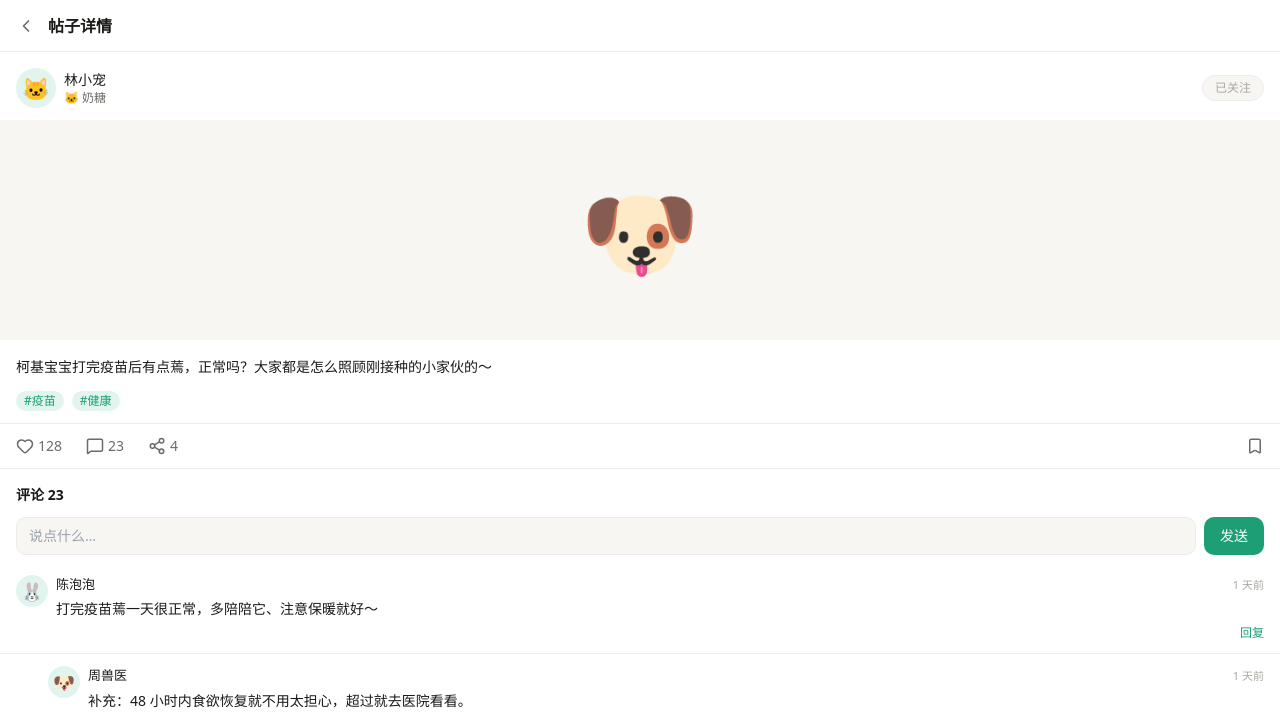
Test: 评论体系（P0-1） › 发送非空评论 → 置顶 + 输入清空 + toast + post.comments +1
In the field with placeholder "说点什么…": [606, 536] box [16,517,1196,555], type "沙发！"
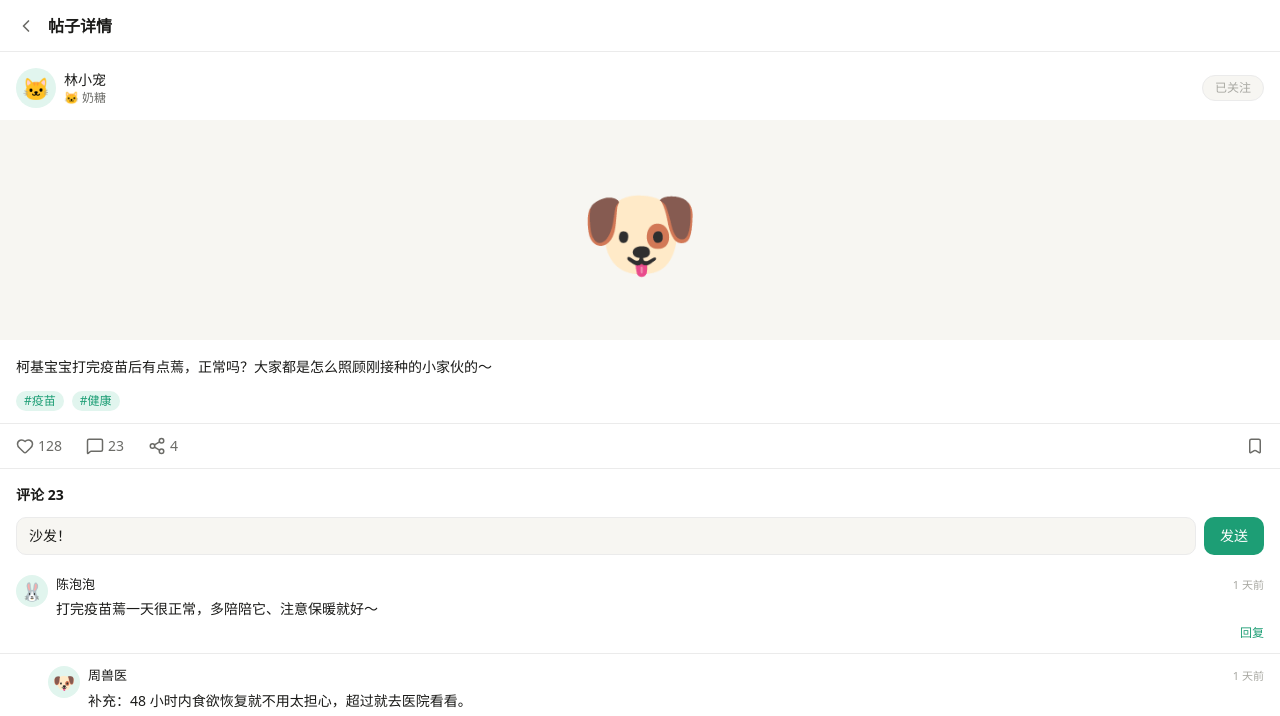
Click the button "发送": [1234, 536] box [1204,517,1264,555]
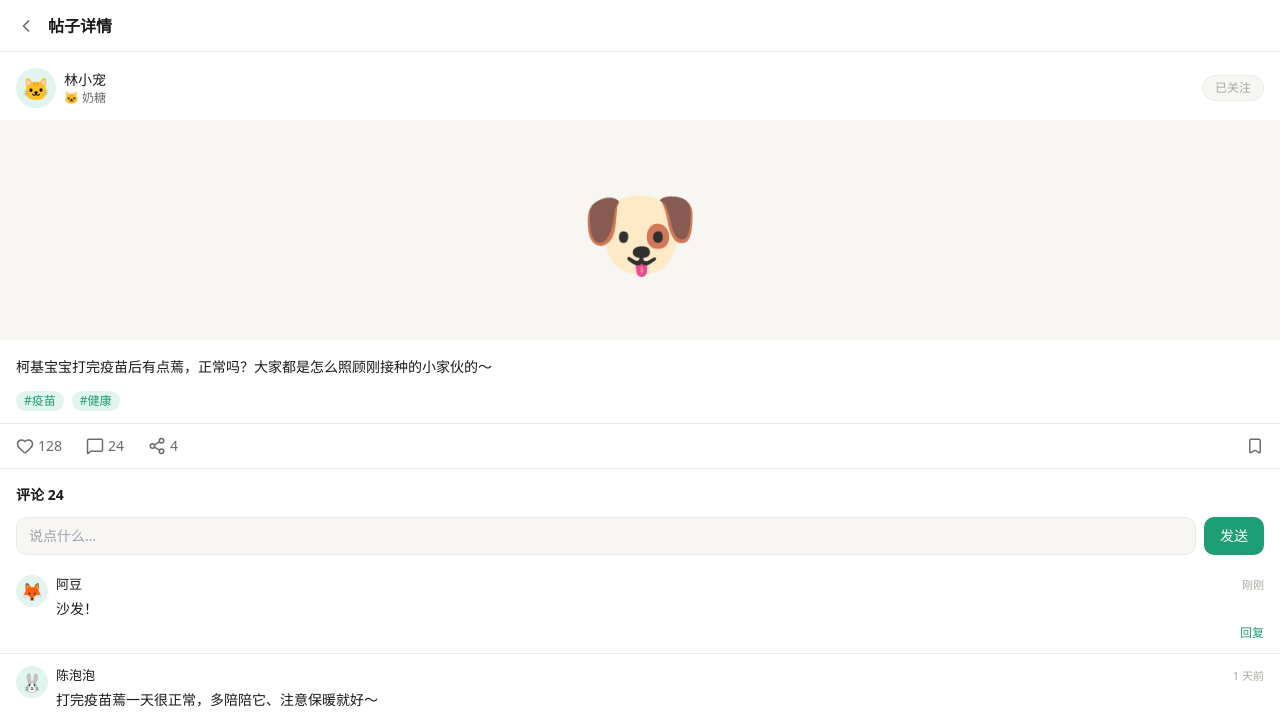
Result: the text "沙发！" is shown at [56,599,98,618]
Result: the field with placeholder "说点什么…" is empty at [16,517,1196,555]
